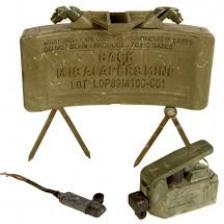MOH-50: (18, 9, 212, 117)
